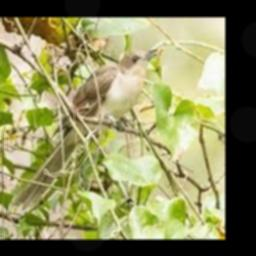Cuckoo: (11, 48, 157, 212)
